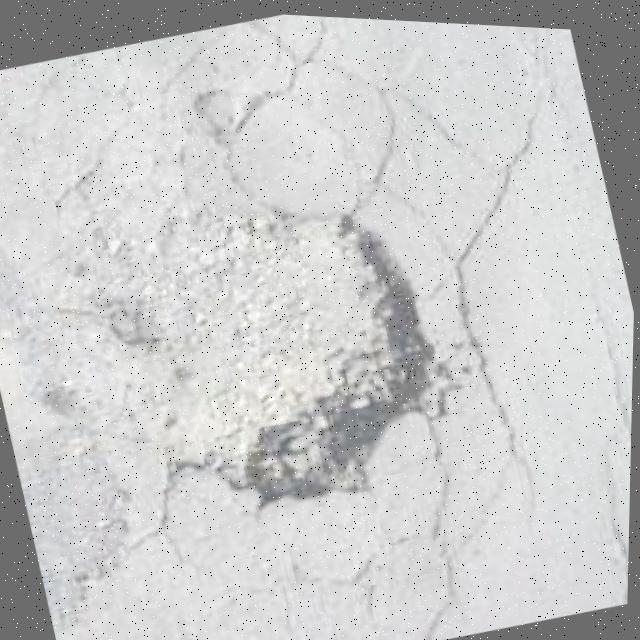pothole: (108, 166, 472, 543)
